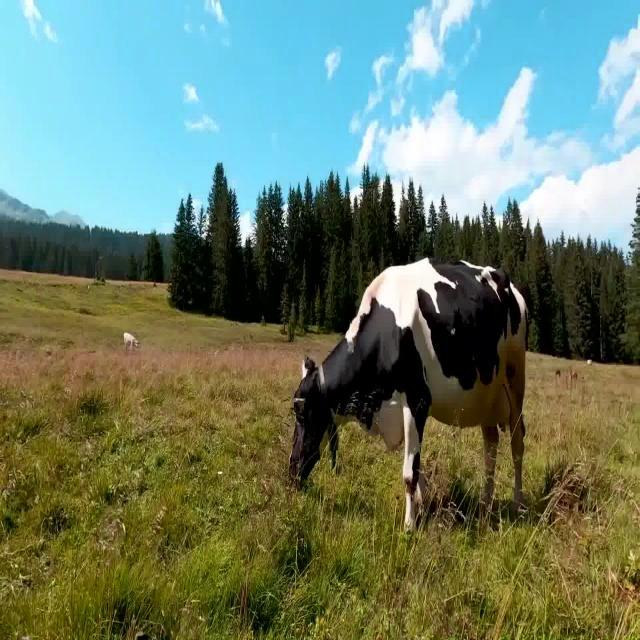cow: (290, 258, 528, 530)
